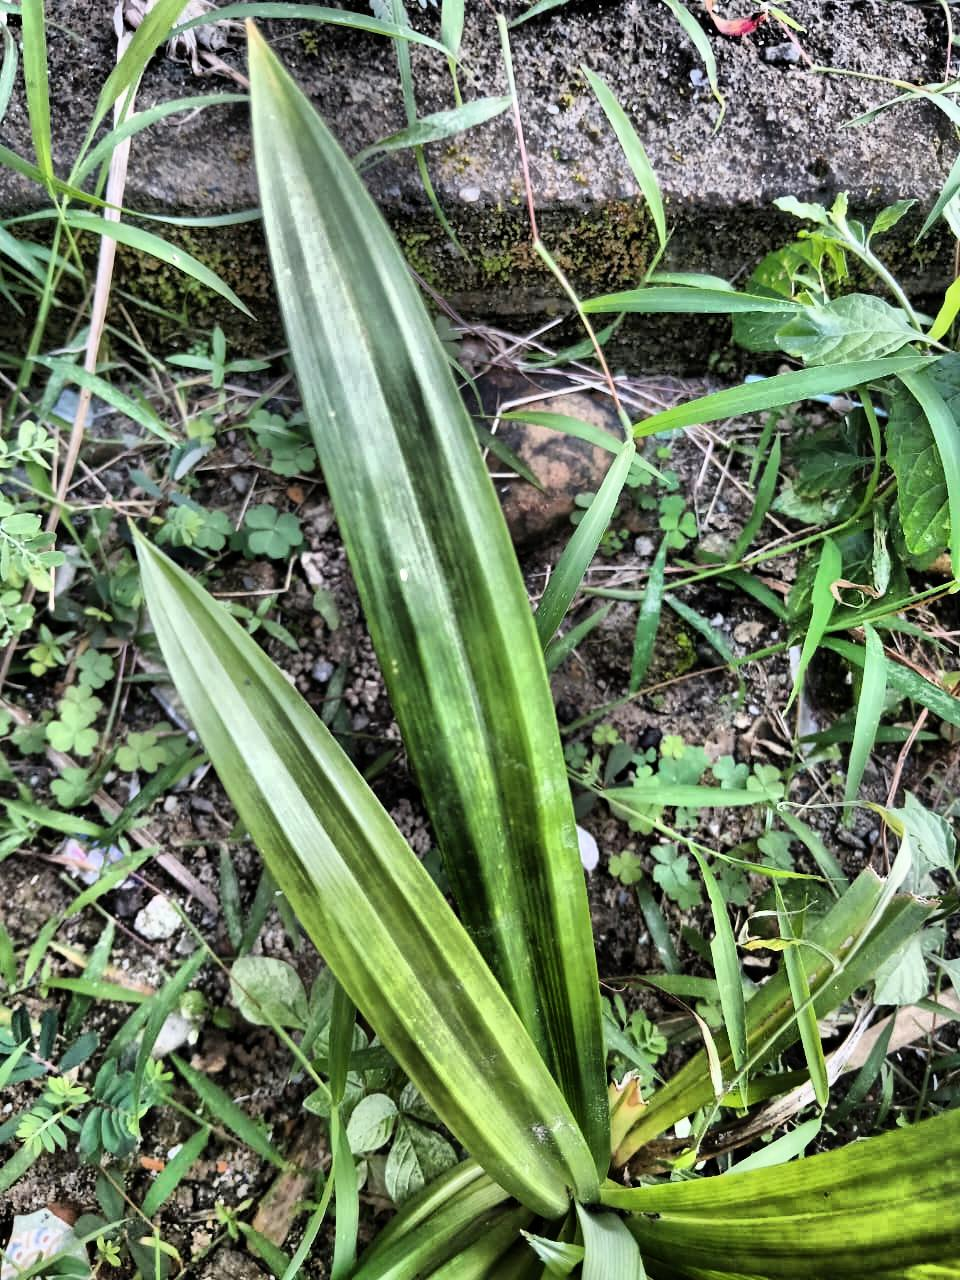daun pandan: (133, 24, 959, 1279)
